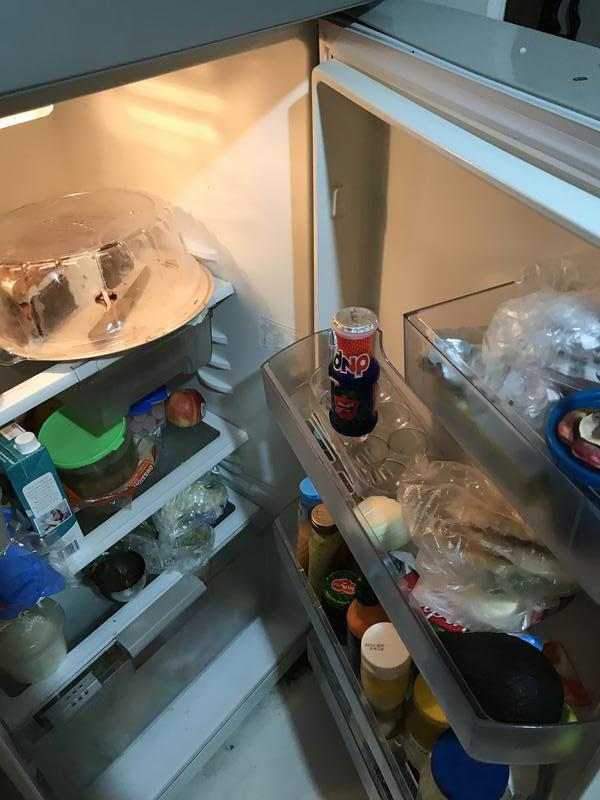danup: (325, 305, 382, 437)
